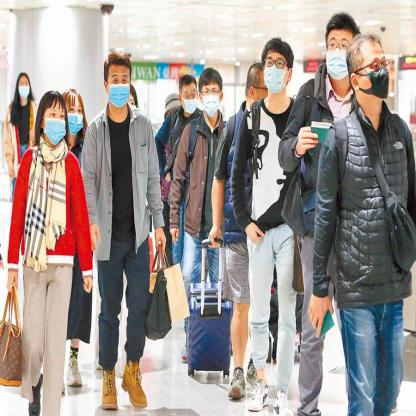Wearing_Mask: (326, 34, 352, 82), (262, 53, 288, 94), (368, 54, 390, 98), (42, 107, 66, 144), (107, 73, 131, 108), (63, 101, 83, 137), (202, 83, 220, 119), (181, 87, 198, 116), (15, 78, 31, 98)
